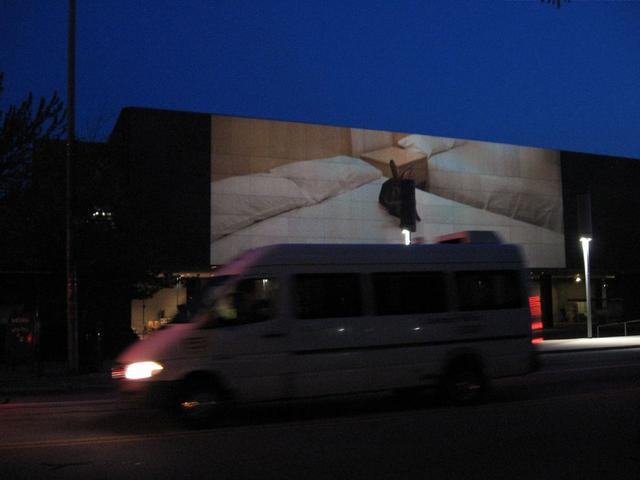rabbit: (362, 151, 438, 227)
